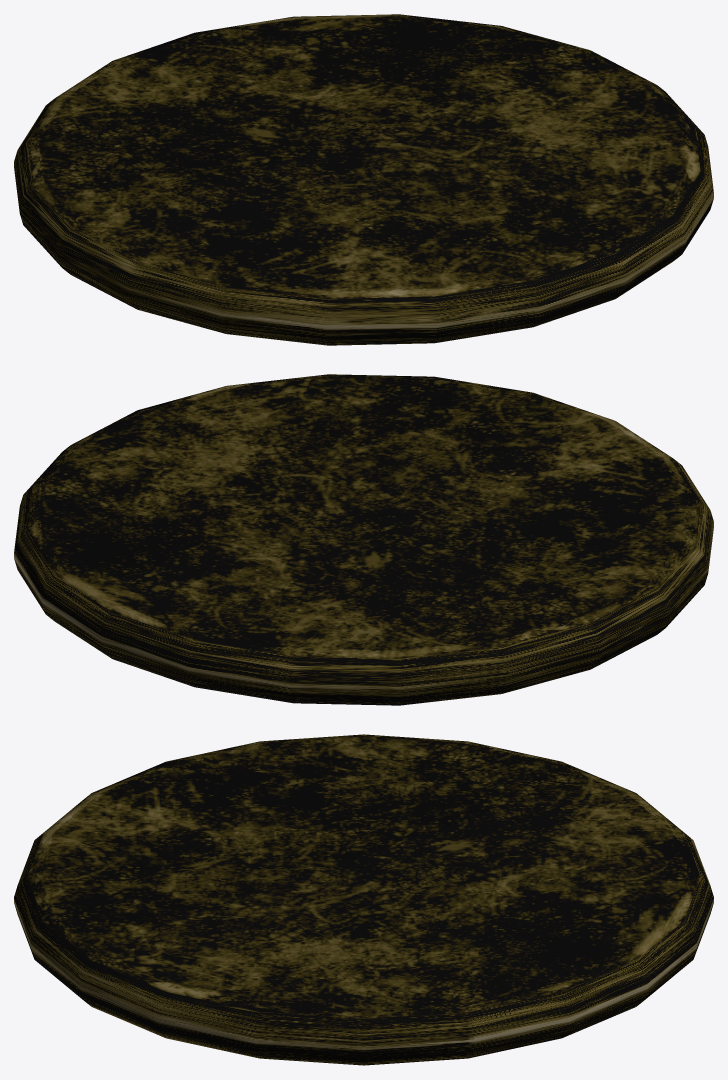
File: BoLiYuanKuai_Yellow.fbx
The picture shows the model from 3 angles, top to bottom: view 1: azimuth 30°, elevation 25°; view 2: azimuth 150°, elevation 25°; view 3: azimuth 270°, elevation 25°; orthographic projection.
Visible parts, largest first — view 1: BoLiYuanKuai_Yellow; view 2: BoLiYuanKuai_Yellow; view 3: BoLiYuanKuai_Yellow.
Boxes of the visible parts, x1,y1,x2,y2 form: BoLiYuanKuai_Yellow: (14,14,713,345); BoLiYuanKuai_Yellow: (14,374,713,705); BoLiYuanKuai_Yellow: (14,734,713,1065).
Bounding box in the file's own units: 12 × 1 × 12.
1 material, 1 textured.
